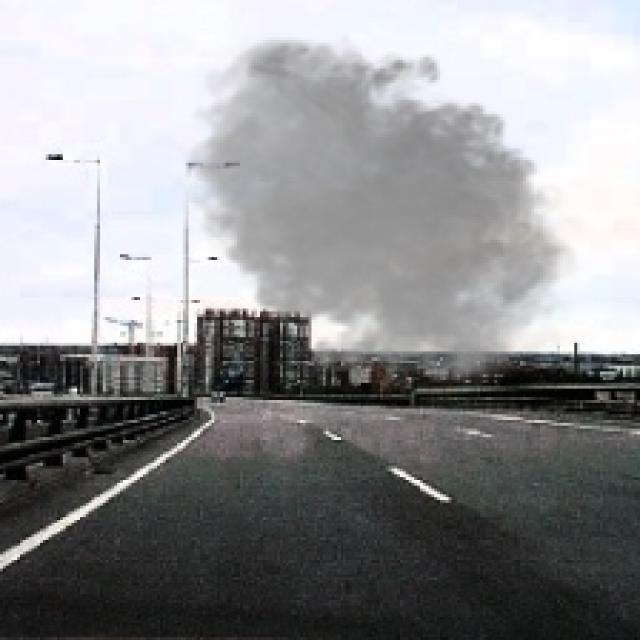smoke: (177, 32, 592, 394)
